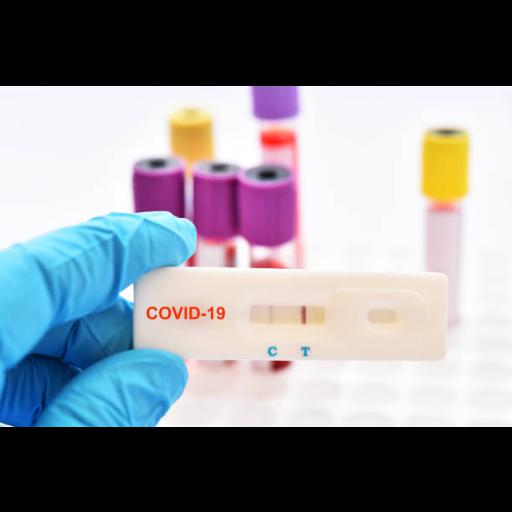Pos: (135, 266, 447, 358)
